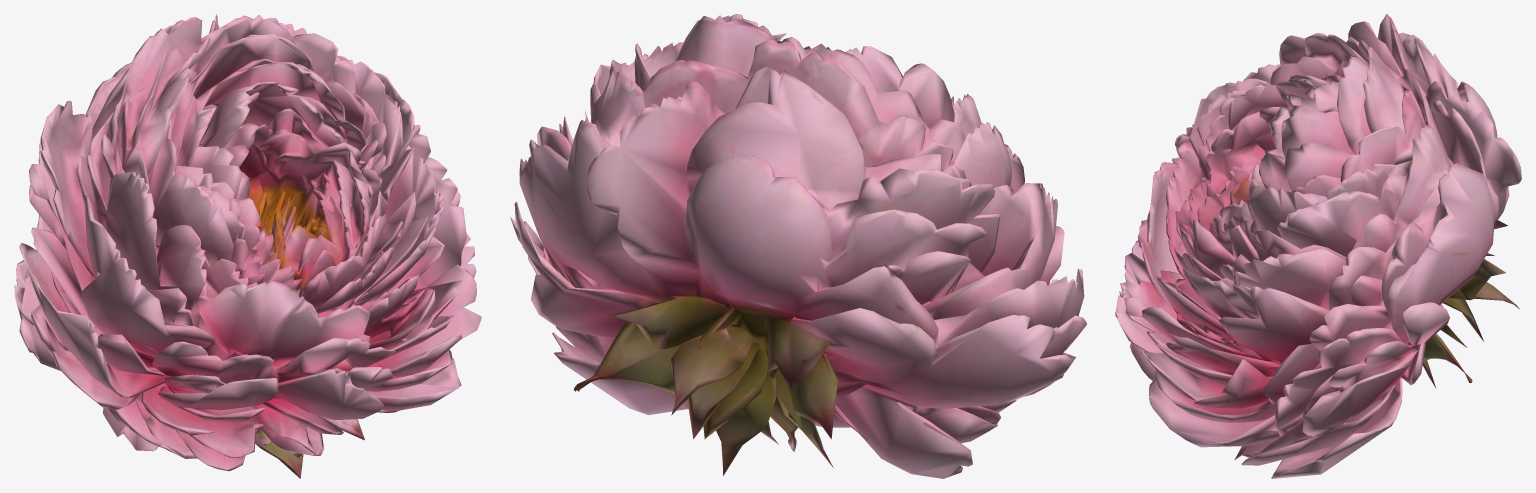
File: fl-flower-peony-open.glb
3 views of the same model, side by side, from view 1: azimuth 30°, elevation 25°; view 2: azimuth 150°, elevation 25°; view 3: azimuth 270°, elevation 25° (orthographic). The views are drawn at different scales.
Parts seen in each view (by area): view 1: node_0; view 2: node_0; view 3: node_0.
Part boxes in pixels (box(x1,y1,x2,y2)): node_0: box(14, 14, 481, 478); node_0: box(510, 14, 1086, 478); node_0: box(1115, 14, 1521, 478).
Bounding box in the file's own units: 1.14 × 0.9768 × 0.9181.
1 material, 1 textured.
